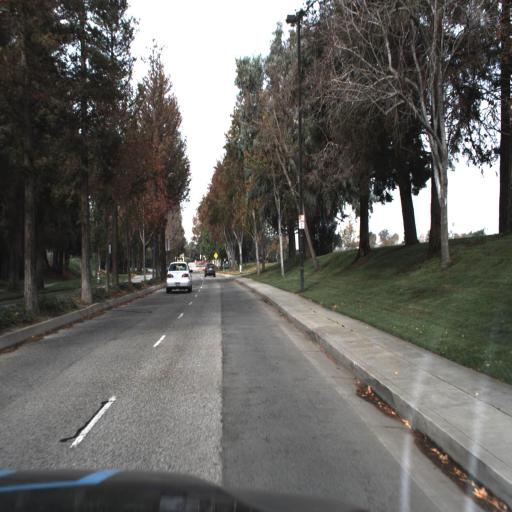car: (167, 261, 191, 296), (205, 262, 216, 277)
